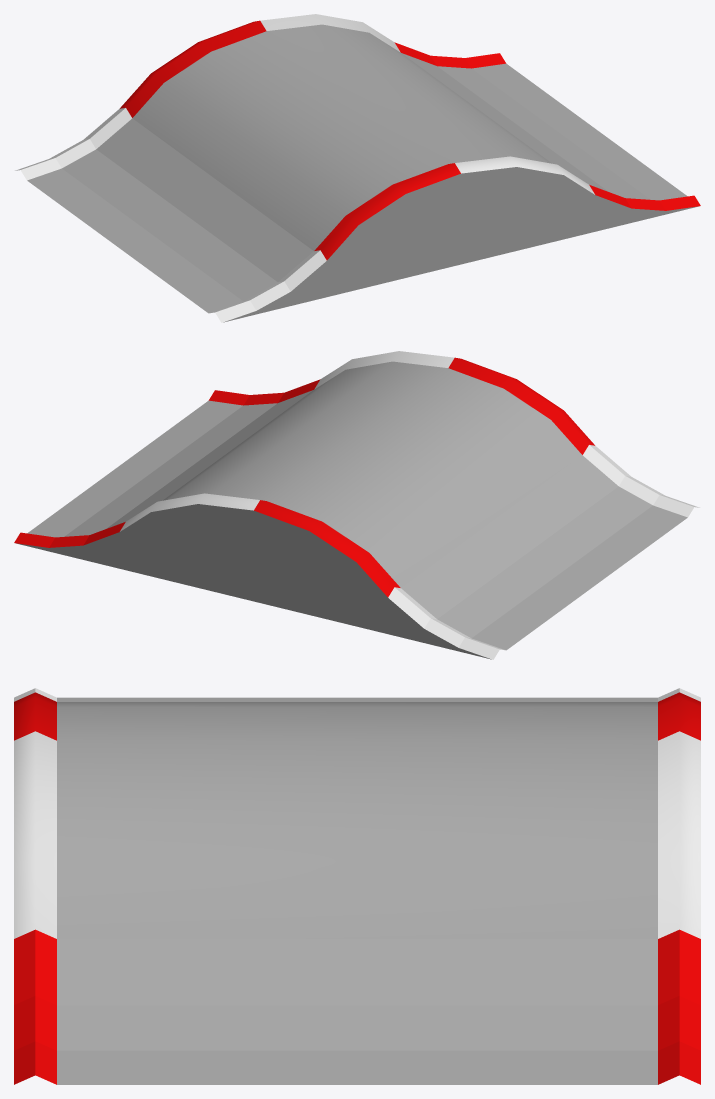
The model's file is Road_Hill.fbx.
3 views of the same model, one above another, from view 1: azimuth 30°, elevation 25°; view 2: azimuth 150°, elevation 25°; view 3: azimuth 270°, elevation 25° (orthographic). The views are drawn at different scales.
Parts seen in each view (by area): view 1: Road_Hill; view 2: Road_Hill; view 3: Road_Hill.
Part boxes in pixels (x1,y1,x2,y2): Road_Hill: [15, 14, 700, 322]; Road_Hill: [14, 351, 699, 659]; Road_Hill: [14, 688, 700, 1084].
Bounding box in the file's own units: 300 × 57.81 × 225.
